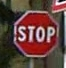stop: (13, 9, 58, 57)
